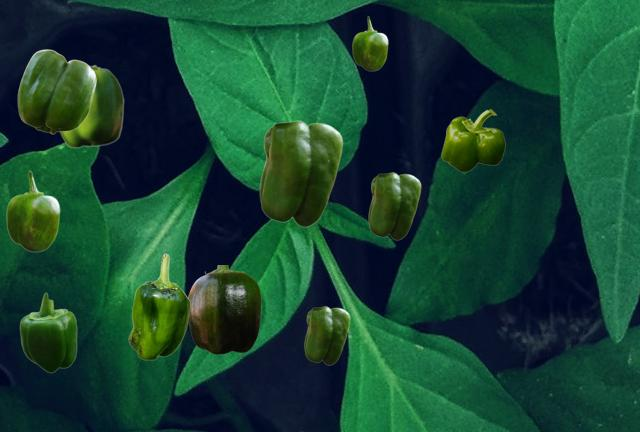bell_pepper: (259, 120, 342, 226), (17, 49, 95, 133), (128, 253, 189, 359), (188, 265, 260, 353), (59, 64, 123, 147), (19, 292, 76, 372), (6, 171, 59, 251), (441, 109, 504, 171), (368, 172, 420, 239), (304, 306, 349, 364), (352, 16, 387, 70)
